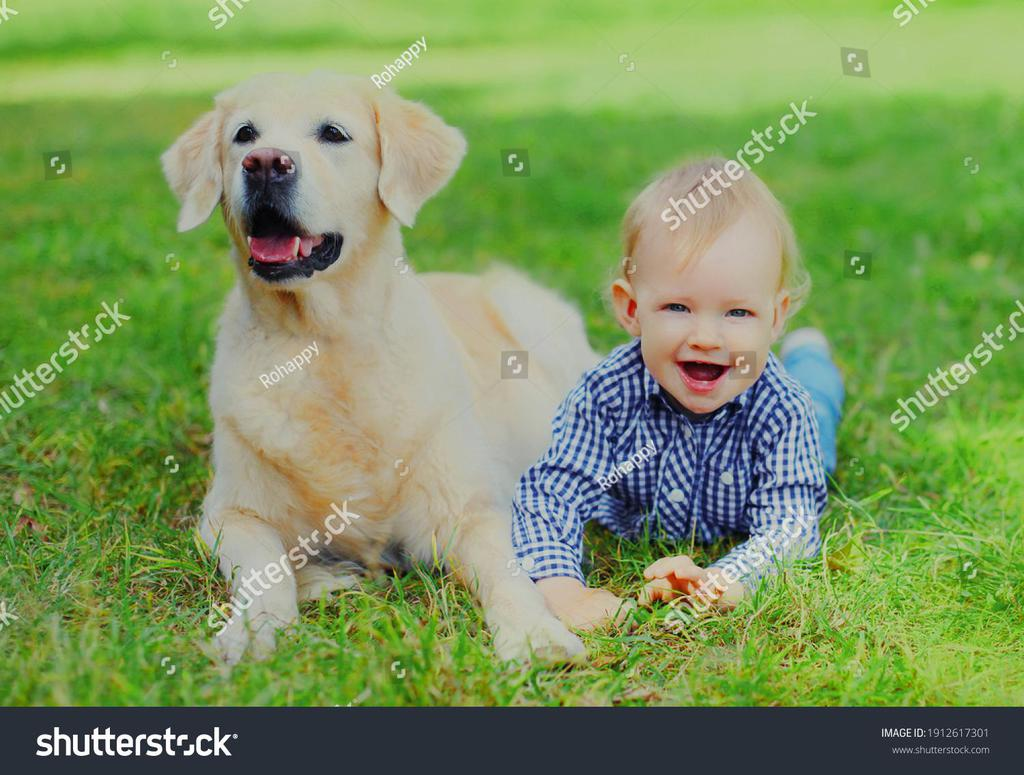child: (508, 140, 861, 628)
